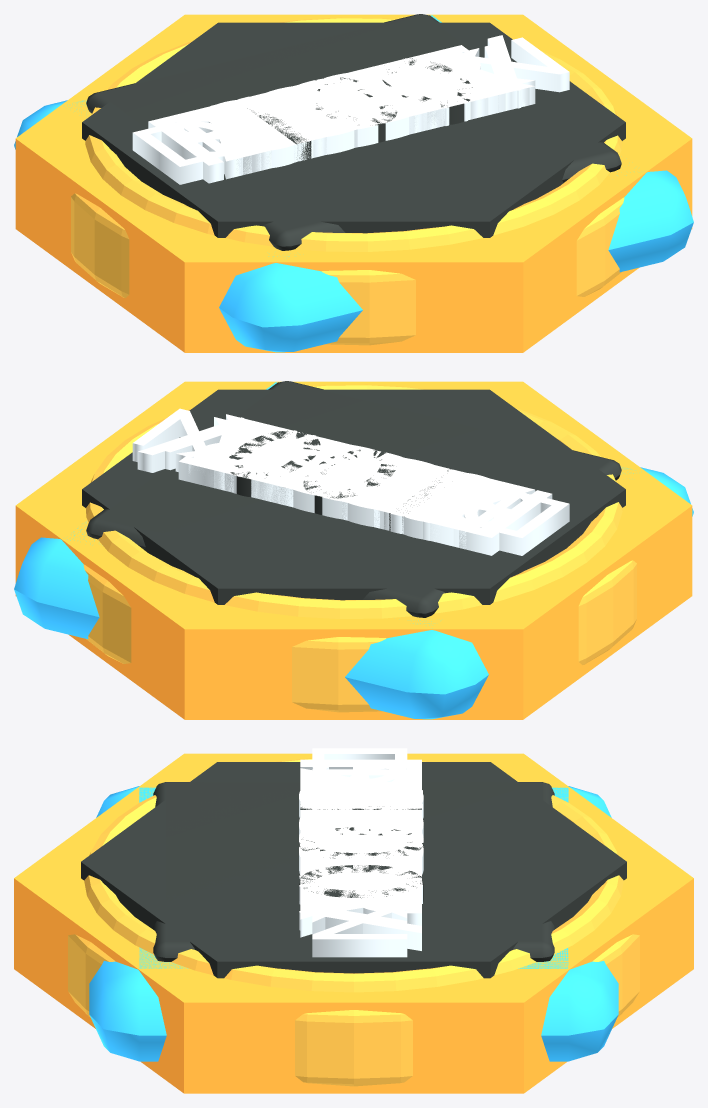
The model's file is pickups.glb.
The picture shows the model from 3 angles, top to bottom: view 1: azimuth 30°, elevation 25°; view 2: azimuth 150°, elevation 25°; view 3: azimuth 270°, elevation 25°; orthographic projection.
Visible parts, largest first — view 1: Upgrade hex badge, Power inset, Cylinder, Power capsule, Coin rim, Gold coin, Embossed symbol.002, Embossed symbol.018, Embossed symbol, Embossed symbol.011, Embossed symbol.001, Embossed symbol.004 (+15 smaller); view 2: Upgrade hex badge, Power inset, Cylinder, Power capsule, Coin rim, Gold coin, Embossed symbol.002, Embossed symbol.018, Embossed symbol.005, Embossed symbol.001, Embossed symbol.016, Embossed symbol.013 (+15 smaller); view 3: Upgrade hex badge, Power inset, Cylinder, Power capsule, Coin rim, Gold coin, Embossed symbol.002, Embossed symbol.001, Embossed symbol.018, Embossed symbol.005, Embossed symbol, Embossed symbol.013 (+13 smaller).
Boxes of the visible parts, box(x1,y1,x2,y2) form: Upgrade hex badge: box(15, 14, 692, 352); Power inset: box(86, 14, 621, 250); Cylinder: box(82, 22, 625, 237); Power capsule: box(14, 15, 693, 352); Coin rim: box(85, 17, 621, 251); Gold coin: box(71, 193, 624, 345); Embossed symbol.002: box(132, 37, 569, 184); Embossed symbol.018: box(148, 35, 520, 183); Embossed symbol: box(242, 53, 488, 161); Embossed symbol.011: box(187, 51, 480, 174); Embossed symbol.001: box(201, 47, 467, 170); Embossed symbol.004: box(238, 63, 505, 172); Upgrade hex badge: box(15, 381, 692, 719); Power inset: box(86, 381, 621, 617); Cylinder: box(82, 389, 625, 604); Power capsule: box(14, 382, 693, 719); Coin rim: box(86, 384, 622, 618); Gold coin: box(83, 560, 636, 712); Embossed symbol.002: box(132, 408, 569, 555); Embossed symbol.018: box(137, 417, 552, 555); Embossed symbol.005: box(159, 423, 533, 527); Embossed symbol.001: box(188, 430, 499, 542); Embossed symbol.016: box(217, 431, 500, 537); Embossed symbol.013: box(197, 414, 535, 540); Upgrade hex badge: box(14, 753, 693, 1093); Power inset: box(153, 782, 554, 961); Cylinder: box(81, 762, 626, 978); Power capsule: box(89, 786, 618, 1061); Coin rim: box(84, 758, 623, 992); Gold coin: box(68, 934, 639, 1086); Embossed symbol.002: box(311, 748, 407, 957); Embossed symbol.001: box(299, 785, 421, 907); Embossed symbol.018: box(299, 759, 423, 950); Embossed symbol.005: box(311, 763, 408, 926); Embossed symbol: box(299, 795, 423, 895); Embossed symbol.013: box(299, 768, 423, 937).
Bounding box in the file's own units: 1.08 × 0.248 × 1.22.
